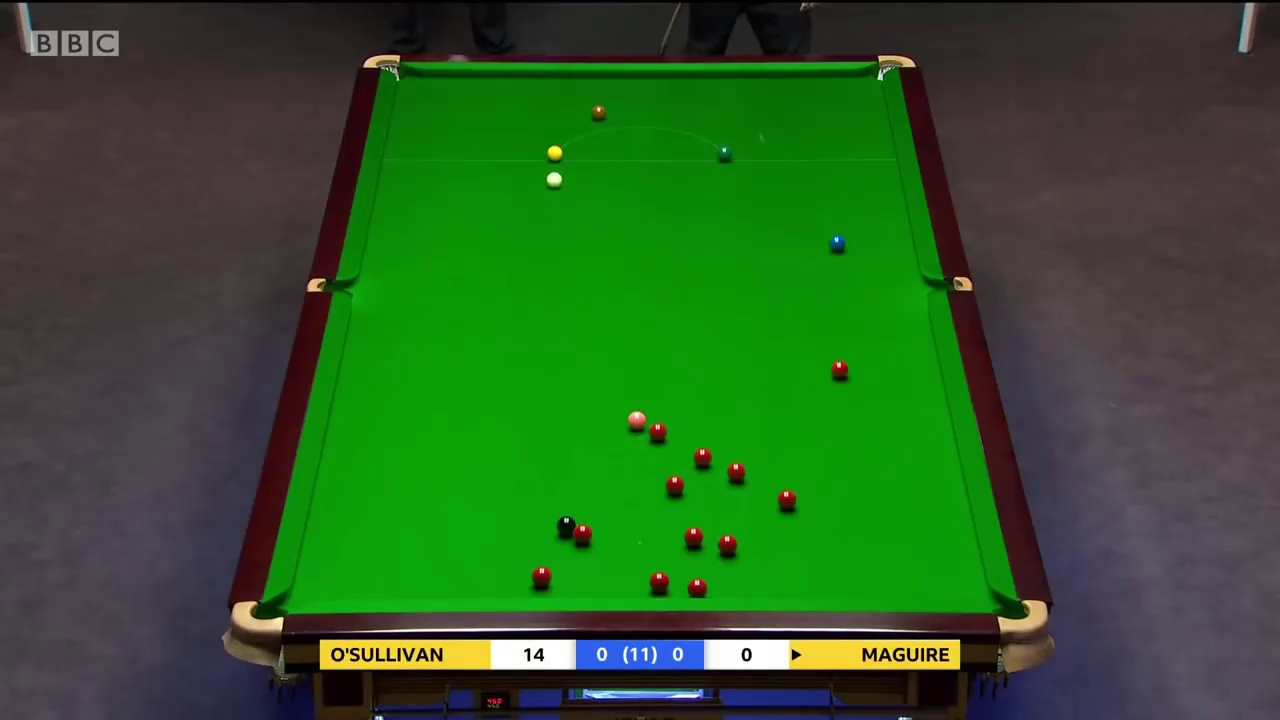ball: (664, 473, 686, 495), (530, 565, 553, 586), (648, 421, 668, 444), (775, 488, 796, 509), (713, 142, 735, 162), (829, 360, 849, 382), (718, 534, 738, 556), (684, 525, 702, 547), (572, 524, 591, 544), (829, 236, 849, 254), (544, 143, 563, 161), (693, 447, 709, 467), (728, 461, 745, 479), (626, 411, 643, 428), (590, 104, 608, 119)
